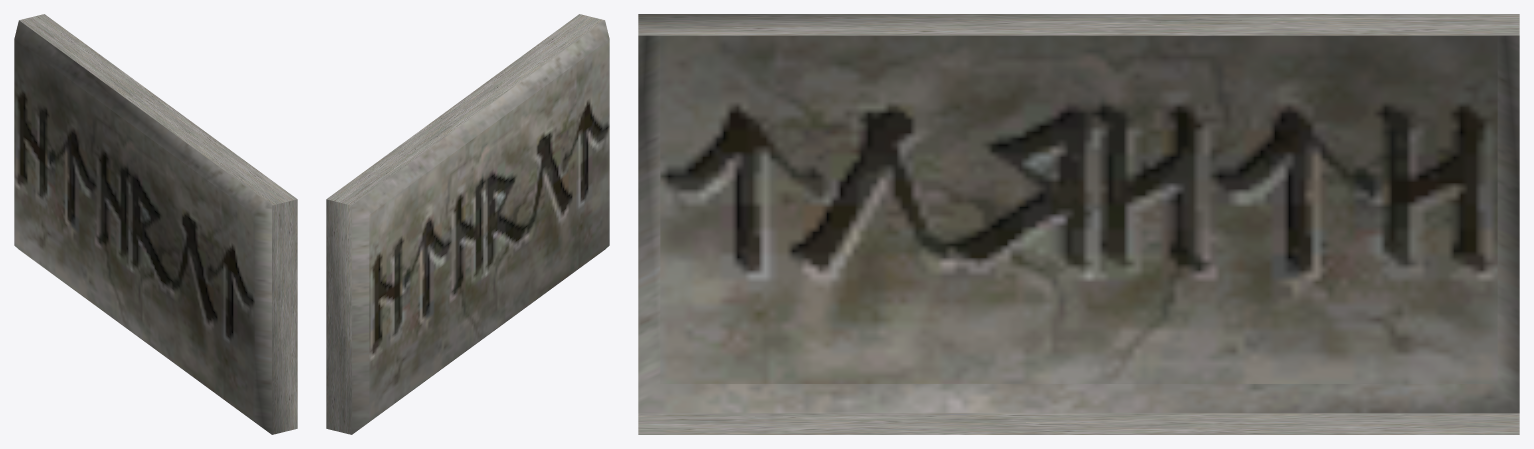
The model's file is DWARF_PALACE_MAINHALL_S_PLAQUE_EREBOR.fbx.
The picture shows the model from 3 angles, left to right: view 1: azimuth 30°, elevation 25°; view 2: azimuth 150°, elevation 25°; view 3: azimuth 270°, elevation 25°; orthographic projection. The views are drawn at different scales.
Parts seen in each view (by area): view 1: DWARF_PALACE_MAINHALL_S_PLAQUE_EREBOR; view 2: DWARF_PALACE_MAINHALL_S_PLAQUE_EREBOR; view 3: DWARF_PALACE_MAINHALL_S_PLAQUE_EREBOR.
Part boxes in pixels (box(x1,y1,x2,y2)): DWARF_PALACE_MAINHALL_S_PLAQUE_EREBOR: box(14, 14, 297, 434); DWARF_PALACE_MAINHALL_S_PLAQUE_EREBOR: box(326, 14, 609, 434); DWARF_PALACE_MAINHALL_S_PLAQUE_EREBOR: box(638, 14, 1519, 434).
Size of the model in its own units: 1000 by 6000 by 12000.
Materials: 2 (2 with a texture image).
